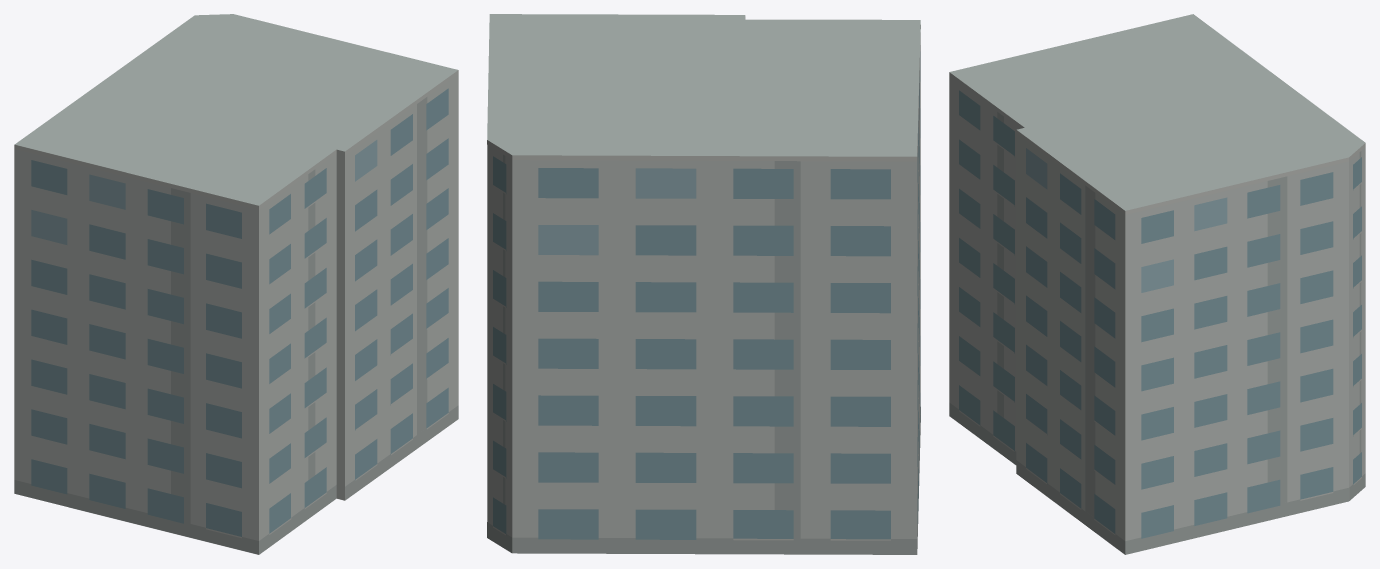
File: survey-upis-32766295.glb
3 renders of one model, left to right at view 1: azimuth 30°, elevation 25°; view 2: azimuth 150°, elevation 25°; view 3: azimuth 270°, elevation 25°, orthographic. The views are drawn at different scales.
Parts seen in each view (by area): view 1: survey-upis-32766295.tmp; view 2: survey-upis-32766295.tmp; view 3: survey-upis-32766295.tmp.
Part boxes in pixels (<box>): survey-upis-32766295.tmp: <box>14,14,458,554</box>; survey-upis-32766295.tmp: <box>487,14,920,554</box>; survey-upis-32766295.tmp: <box>949,14,1365,554</box>.
Size of the model in its own units: 24.81 by 20.2 by 22.17.
